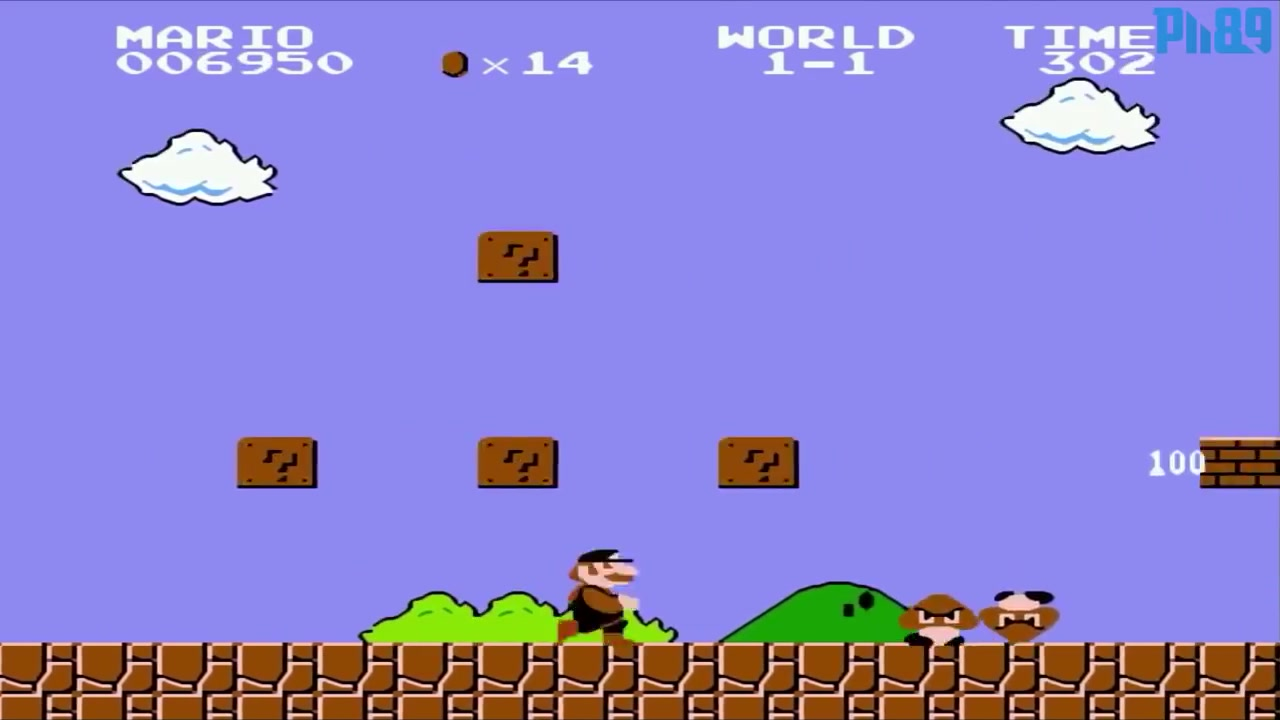mario: (547, 529, 652, 648)
